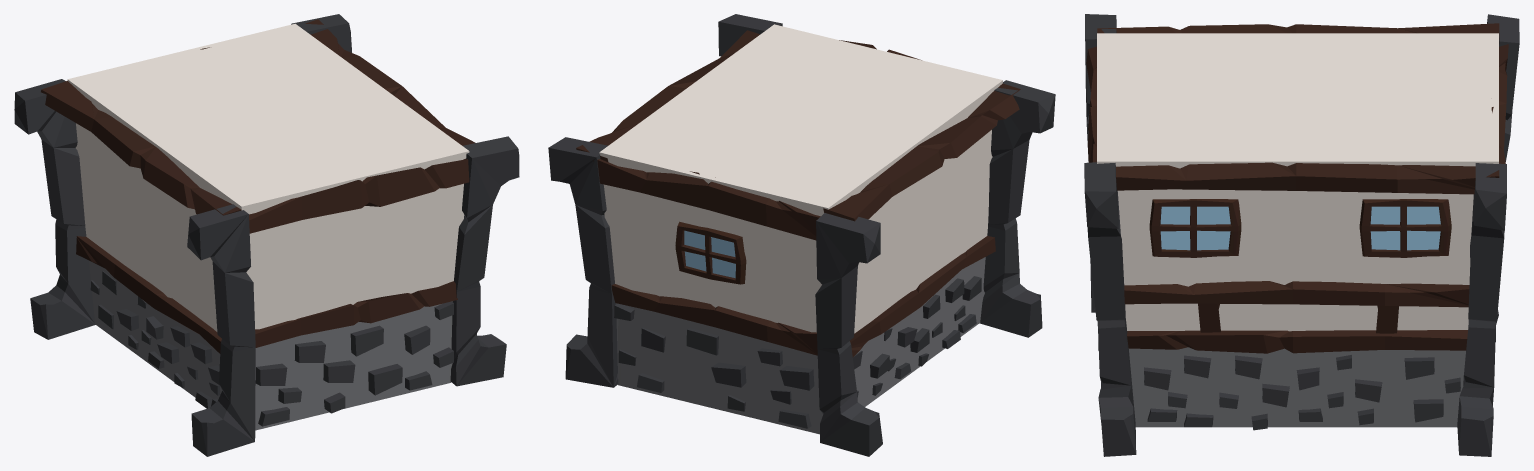
File: SM_L_Modular_Homebase_1.fbx
The picture shows the model from 3 angles, left to right: view 1: azimuth 30°, elevation 25°; view 2: azimuth 150°, elevation 25°; view 3: azimuth 270°, elevation 25°; orthographic projection. The views are drawn at different scales.
Parts seen in each view (by area): view 1: SM_L_Modular_HomeBase1; view 2: SM_L_Modular_HomeBase1; view 3: SM_L_Modular_HomeBase1.
Boxes of the visible parts, x1,y1,x2,y2 form: SM_L_Modular_HomeBase1: [14, 14, 519, 456]; SM_L_Modular_HomeBase1: [548, 14, 1055, 456]; SM_L_Modular_HomeBase1: [1084, 14, 1519, 456].
Size of the model in its own units: 434 by 307 by 433.
